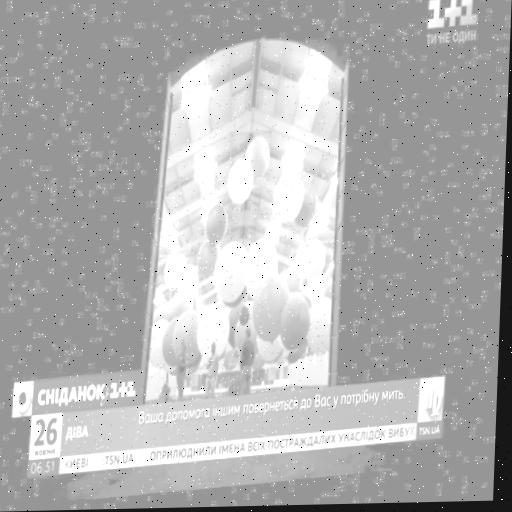balloon: (252, 282, 290, 348), (247, 241, 280, 304), (275, 176, 307, 231), (197, 313, 232, 361), (174, 315, 203, 370), (282, 301, 312, 354), (310, 305, 338, 360), (229, 162, 258, 209), (235, 315, 262, 365), (304, 244, 329, 292), (245, 140, 272, 184), (164, 320, 188, 369), (198, 244, 223, 282), (151, 320, 169, 370), (228, 304, 246, 351), (166, 257, 190, 292), (298, 191, 318, 231), (179, 270, 202, 304), (208, 208, 229, 244), (259, 344, 284, 369), (307, 287, 330, 308), (289, 272, 303, 295), (242, 310, 252, 329)
